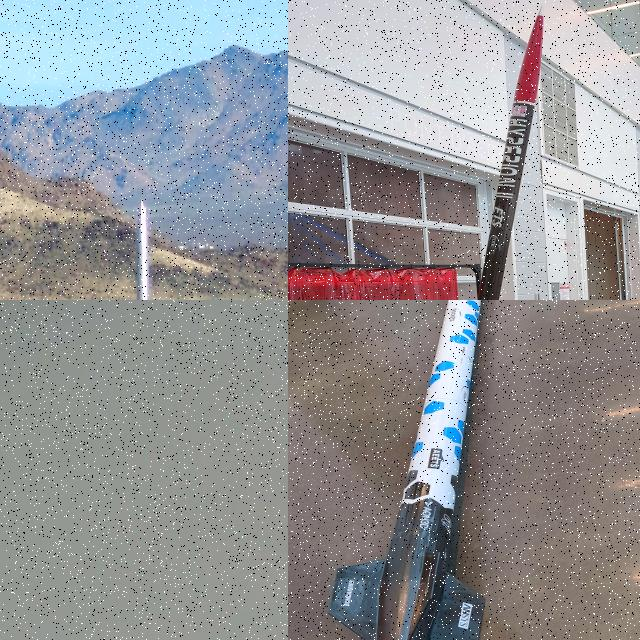Rocket: (327, 300, 486, 640), (477, 5, 544, 300), (130, 198, 157, 300)
